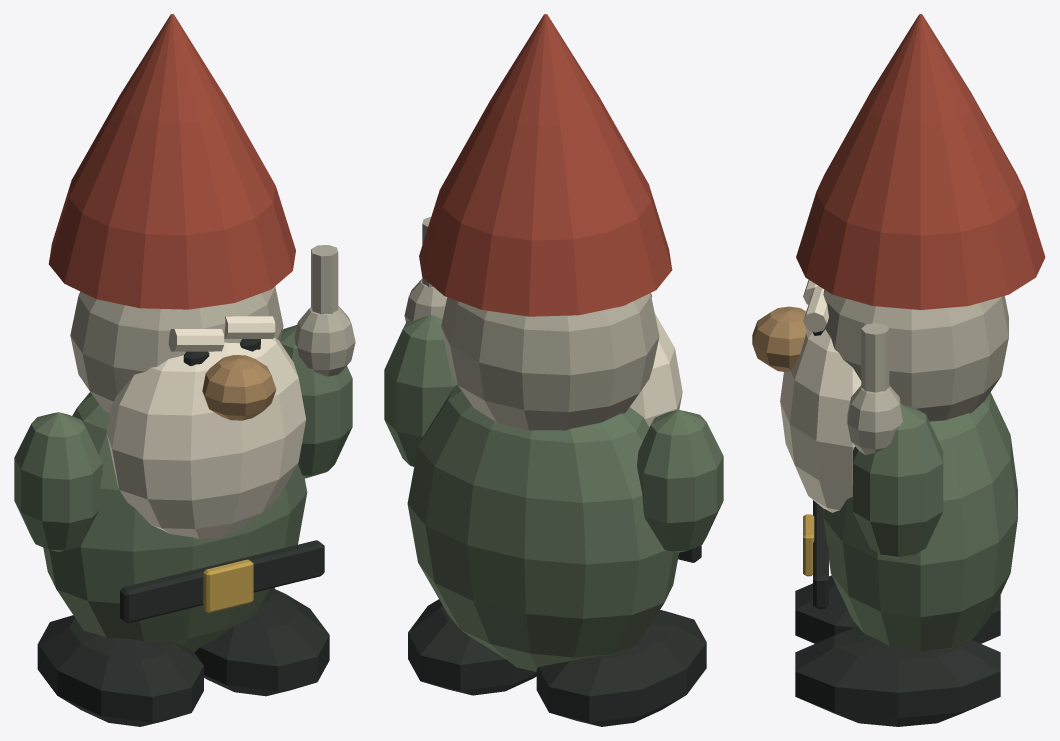
The model's file is garden-gnome.glb.
3 views of the same model, side by side, from view 1: azimuth 30°, elevation 25°; view 2: azimuth 150°, elevation 25°; view 3: azimuth 270°, elevation 25° (orthographic). The views are drawn at different scales.
Visible parts, largest first — view 1: garden-gnome; view 2: garden-gnome; view 3: garden-gnome.
Boxes of the visible parts, bbox=[...] form: garden-gnome: bbox=[14, 14, 355, 726]; garden-gnome: bbox=[384, 14, 723, 726]; garden-gnome: bbox=[752, 14, 1045, 726].
Bounding box in the file's own units: 0.8197 × 1.63 × 0.6458.
